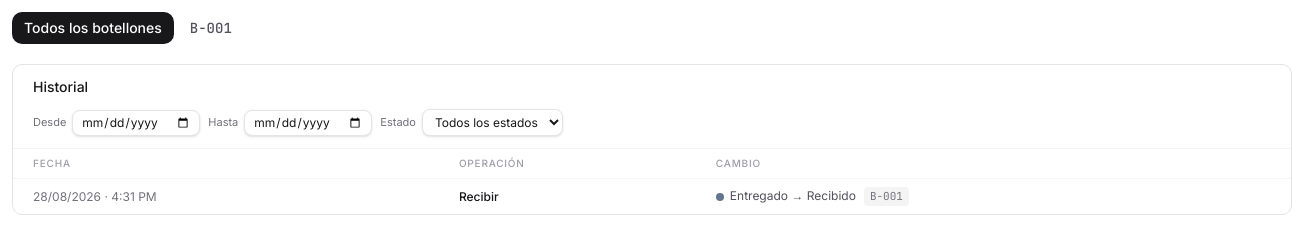
HistorialCliente — movimientos + botellon filter + pagination › date filters reload with gte/lte on the movimientos query and toggle the Limpiar button
Check: the 1st text "B-001" is shown, box [190,19,232,37]
In the date field labelled "Desde": (136, 122) [72,110,200,136], type "2026-08-01"
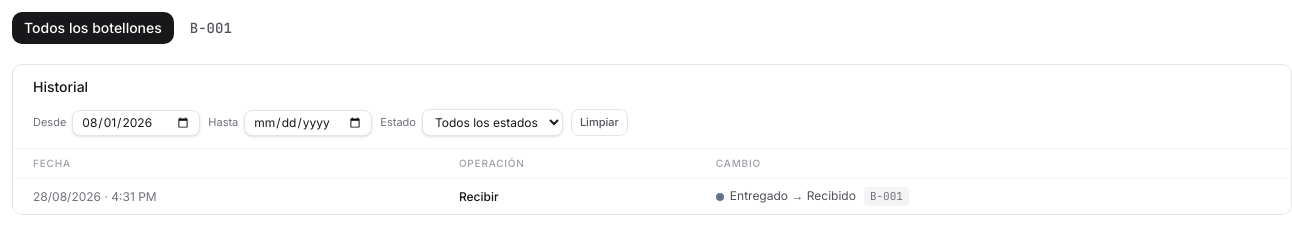
In the date field labelled "Hasta": (308, 122) [244,110,372,136], type "2026-08-31"
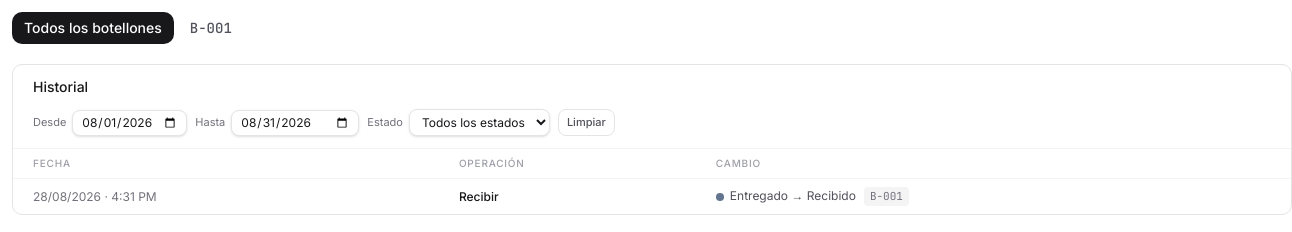
Check: the button "Limpiar" is shown
Click the button "Limpiar": click(586, 123) [558,109,615,136]
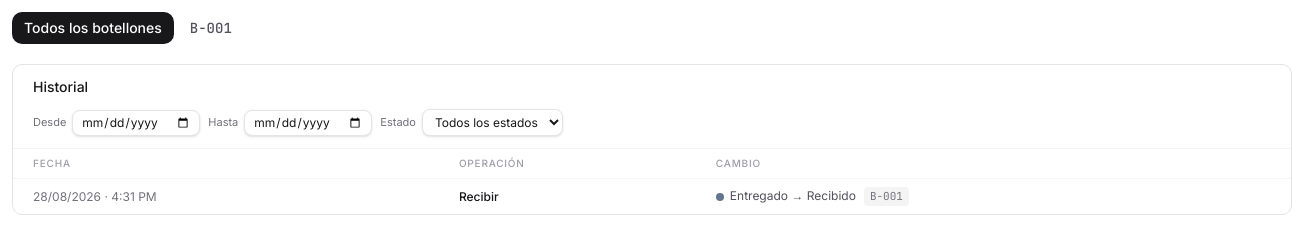
Check: the button "Limpiar" is gone
